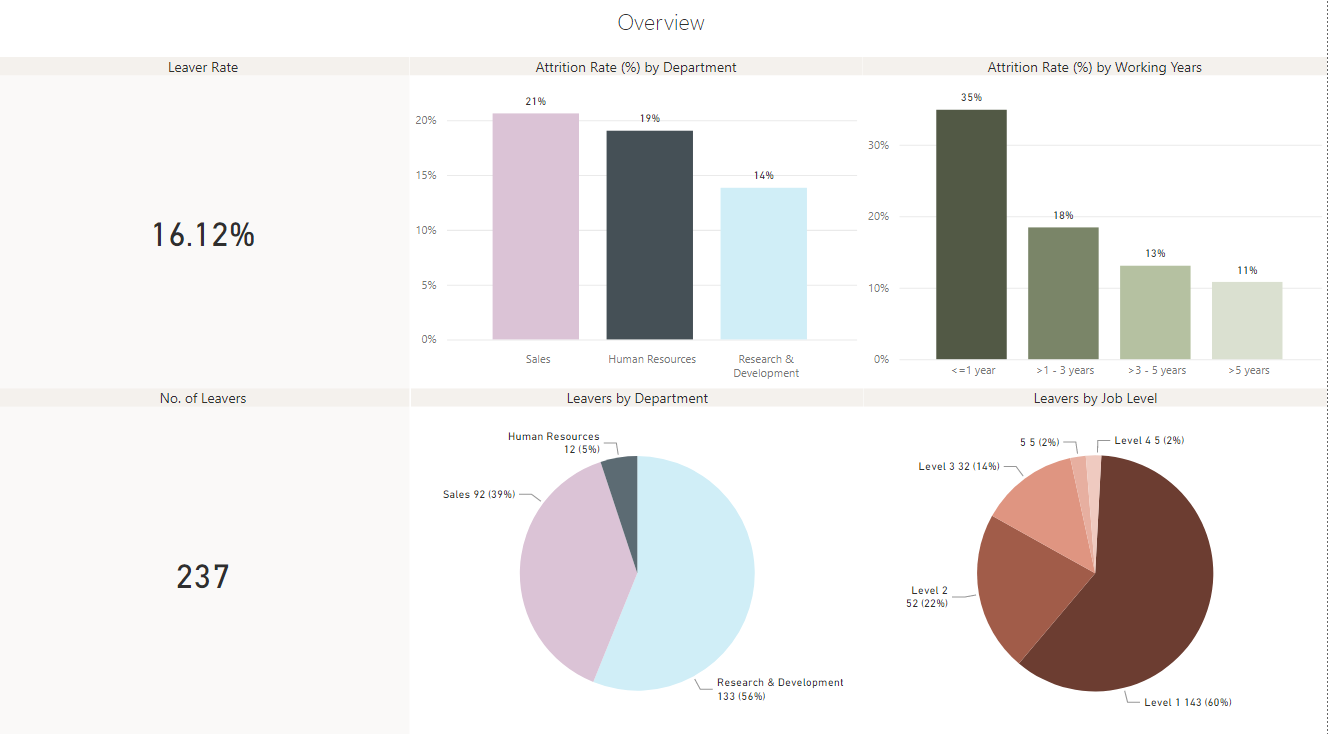

The page's visual inventory and layout, read from the dashboard file:
{"tool":"powerbi","page":{"name":"Overview of Leavers","canvas":[1280,720],"ordinal":0},"visuals":[{"type":"card","title":"Leaver Rate","fields":{"Values":["HR Data_20250501.Atttrition Rate (%)"]},"box":[0,62.5,397.9,318.5],"z":0},{"type":"clusteredColumnChart","fields":{"Y":["HR Data_20250501.Atttrition Rate (%)"],"Category":["HR Data_20250501.Department"]},"box":[397.9,62.5,435.1,318.5],"z":1000},{"type":"clusteredColumnChart","title":"Attrition Rate (%) by Working Years","fields":{"Y":["HR Data_20250501.Atttrition Rate (%)"],"Category":["Legend_YearsInCompany.Legend_YearsInCompany"]},"box":[833,62.5,447.1,318.5],"z":2000},{"type":"card","title":"No. of Leavers","fields":{"Values":["Sum(HR Data_20250501.EmployeeCount)"]},"box":[0,381,397.9,339],"z":3000},{"type":"pieChart","title":"Leavers by Department","fields":{"Category":["HR Data_20250501.Department"],"Y":["Sum(HR Data_20250501.EmployeeCount)"]},"box":[399.1,381,435.1,339],"z":4000},{"type":"pieChart","title":"Leavers by Job Level","fields":{"Category":["HR Data_20250501.JobLevel"],"Y":["Sum(HR Data_20250501.EmployeeCount)"]},"box":[834.2,381,445.9,339],"z":5000},{"type":"textbox","box":[0,8.4,1278.9,39.7],"z":6000}]}

Visuals, with their boxes in screenshot pixels (x1, y1, x2, y2), scaled from the page's 1280x720 canvas onto the 1328x734 screenshot:
"Leaver Rate" card: bbox(0, 64, 413, 388)
clusteredColumnChart - HR Data_20250501.Atttrition Rate (%) x HR Data_20250501.Department: bbox(413, 64, 864, 388)
"Attrition Rate (%) by Working Years" clusteredColumnChart: bbox(864, 64, 1327, 388)
"No. of Leavers" card: bbox(0, 388, 413, 733)
"Leavers by Department" pieChart: bbox(414, 388, 865, 733)
"Leavers by Job Level" pieChart: bbox(865, 388, 1327, 733)
textbox: bbox(0, 9, 1327, 49)
